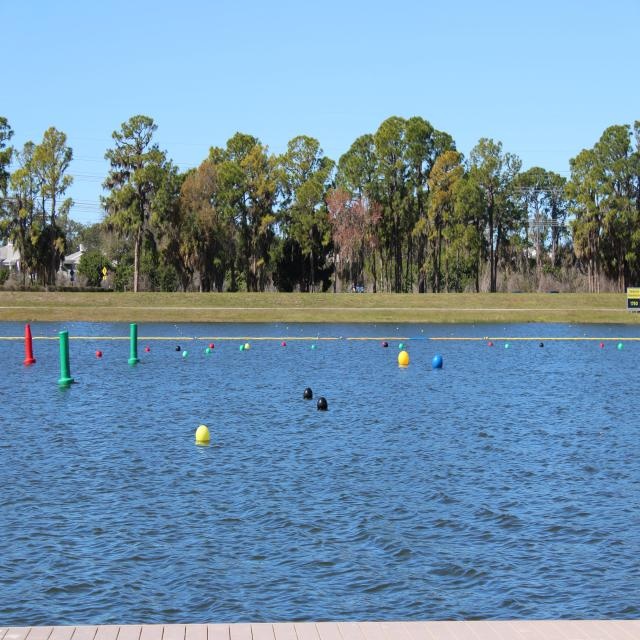black-buoy: (318, 396, 328, 411), (305, 387, 314, 400)
blue-buoy: (432, 354, 443, 371)
green-buoy: (620, 344, 625, 351)
green-column-buoy: (60, 331, 74, 387), (130, 324, 140, 366)
red-buoy: (98, 350, 103, 358)
red-column-buoy: (26, 325, 36, 366)
yellow-buoy: (197, 425, 212, 445), (400, 350, 411, 368), (244, 344, 248, 352)
